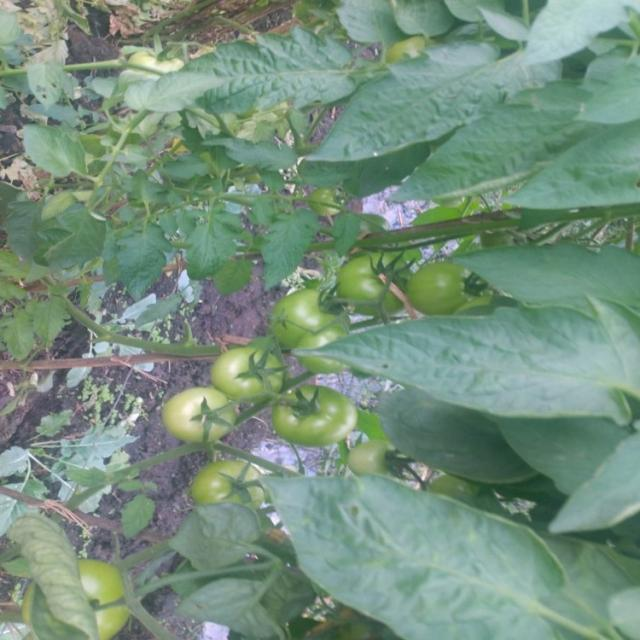tomato: (271, 374, 362, 446), (334, 244, 410, 320), (167, 377, 240, 456), (406, 254, 476, 329), (208, 340, 286, 400), (79, 556, 136, 635), (202, 456, 276, 512), (271, 283, 338, 340), (346, 439, 403, 476), (129, 39, 181, 73), (308, 184, 347, 217)
